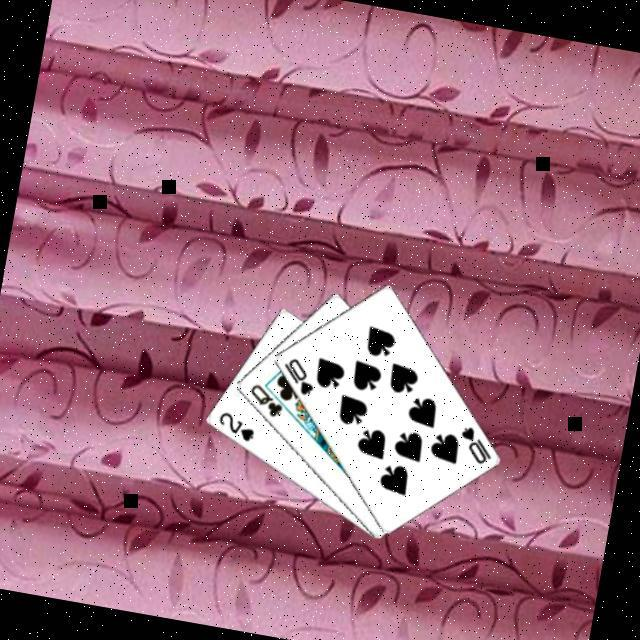10S: (274, 353, 320, 400), (451, 422, 497, 469)
2S: (211, 408, 259, 446)
QC: (241, 380, 288, 423)
